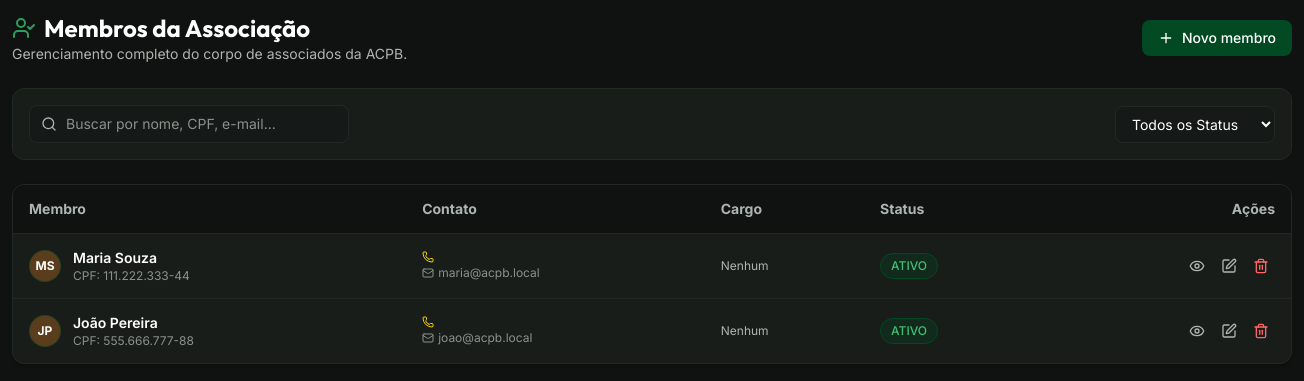
Test: MembersList — busca › filtra por nome
The width and height of the screenshot is (1304, 381).
Expected: the text "Maria Souza" is shown, [73,249,157,266]
Type "Maria" into the field with placeholder "Buscar por nome, CPF, e-mail..." at x=189, y=124, box [29,105,349,143]
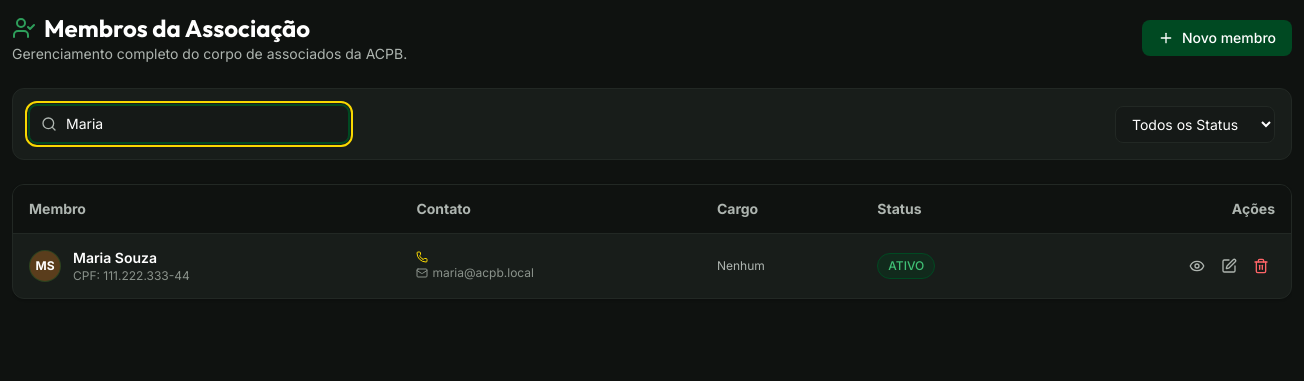
Expected: the text "Maria Souza" is shown, [73,249,157,266]
Now the text "João Pereira" is gone
